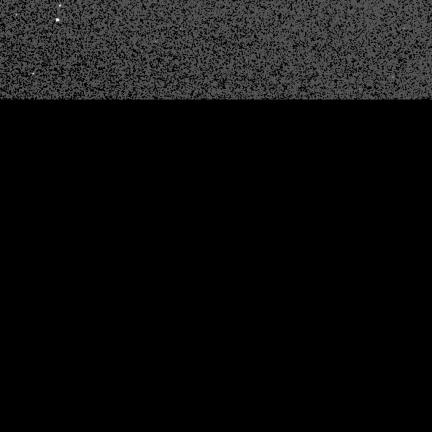blob: (56, 19, 59, 21)
